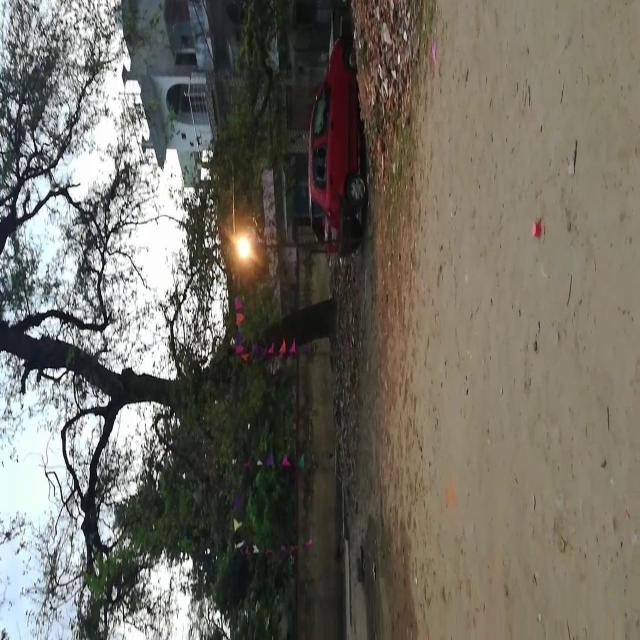other: (218, 212, 271, 286)
